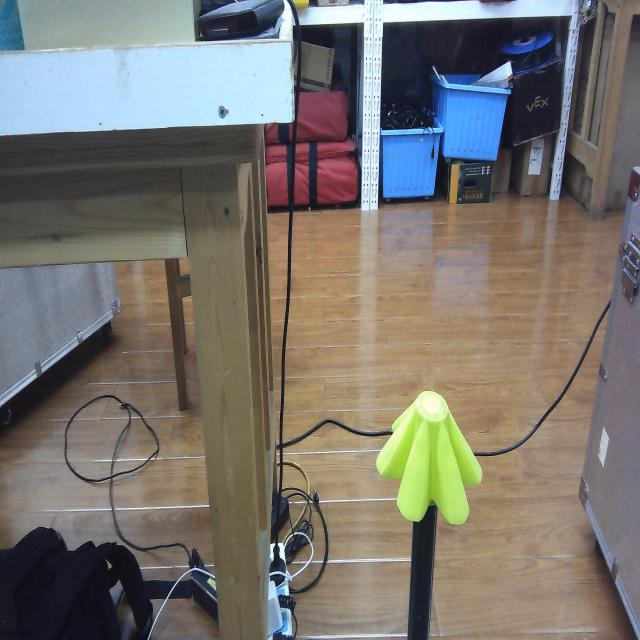Yellow-Stake-Head: (376, 390, 483, 525)
